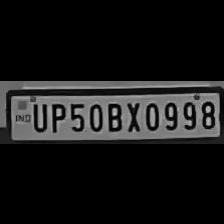0: (140, 98, 160, 130), (86, 99, 104, 131)
5: (66, 98, 86, 132)
8: (196, 96, 216, 128)
9: (161, 97, 179, 129), (179, 97, 197, 129)
B: (104, 98, 124, 132)
P: (47, 99, 66, 131)
U: (27, 99, 47, 131)
X: (123, 98, 141, 132)
